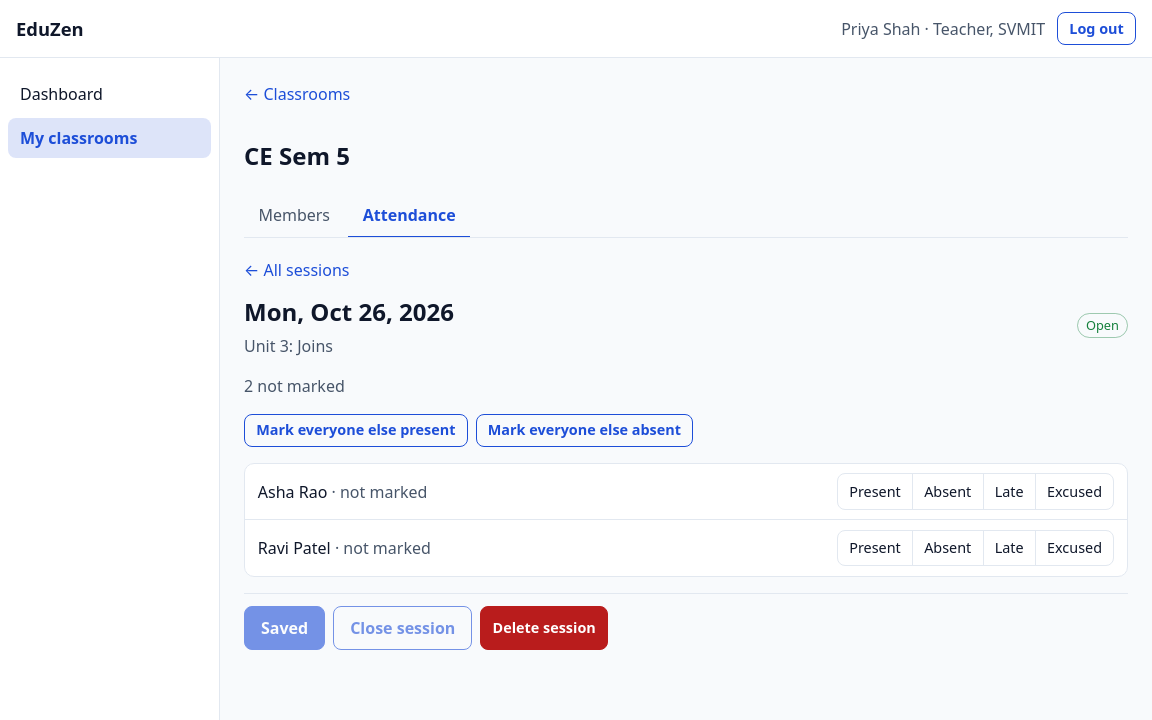
Test: marking screen › marks, uses the shortcut, and saves only the changes
Expected: the text "2 not marked" is shown, [244,375,345,397]
Click the radio button labelled "Present" in the row of "Ravi Patel": (875, 548) [849,538,901,557]
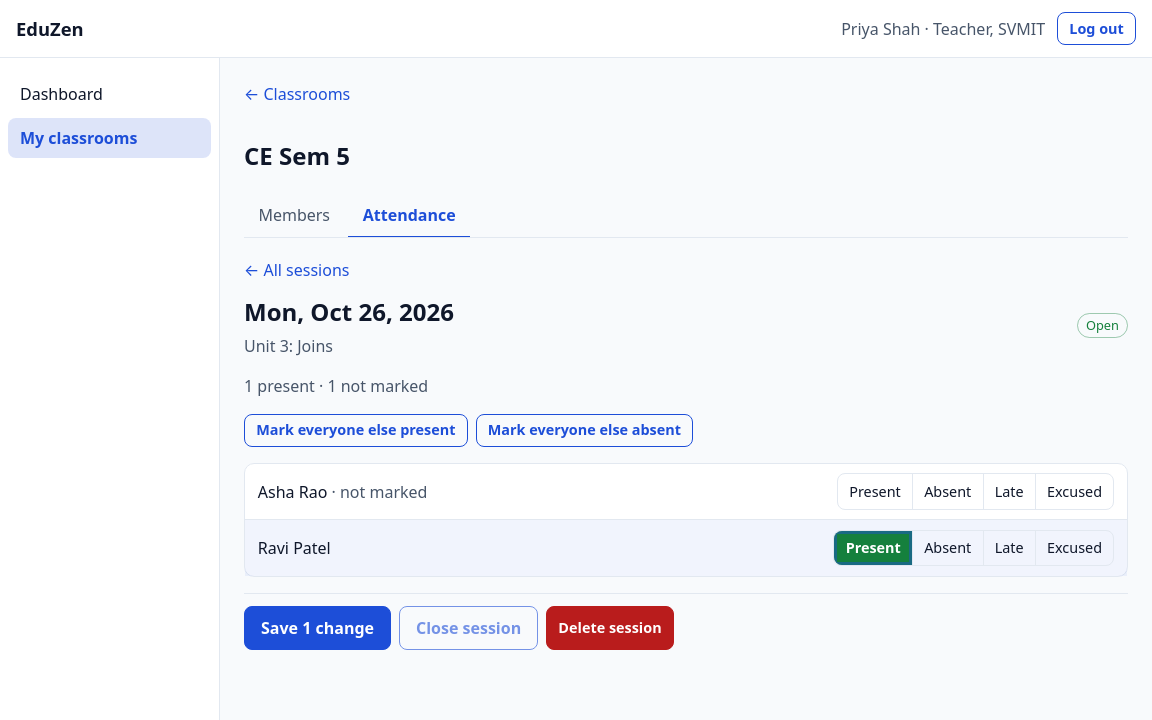
Result: the button "Save 1 change" is enabled at [244,606,391,650]
Click the button "Mark everyone else absent": (584, 430) [476,414,693,447]
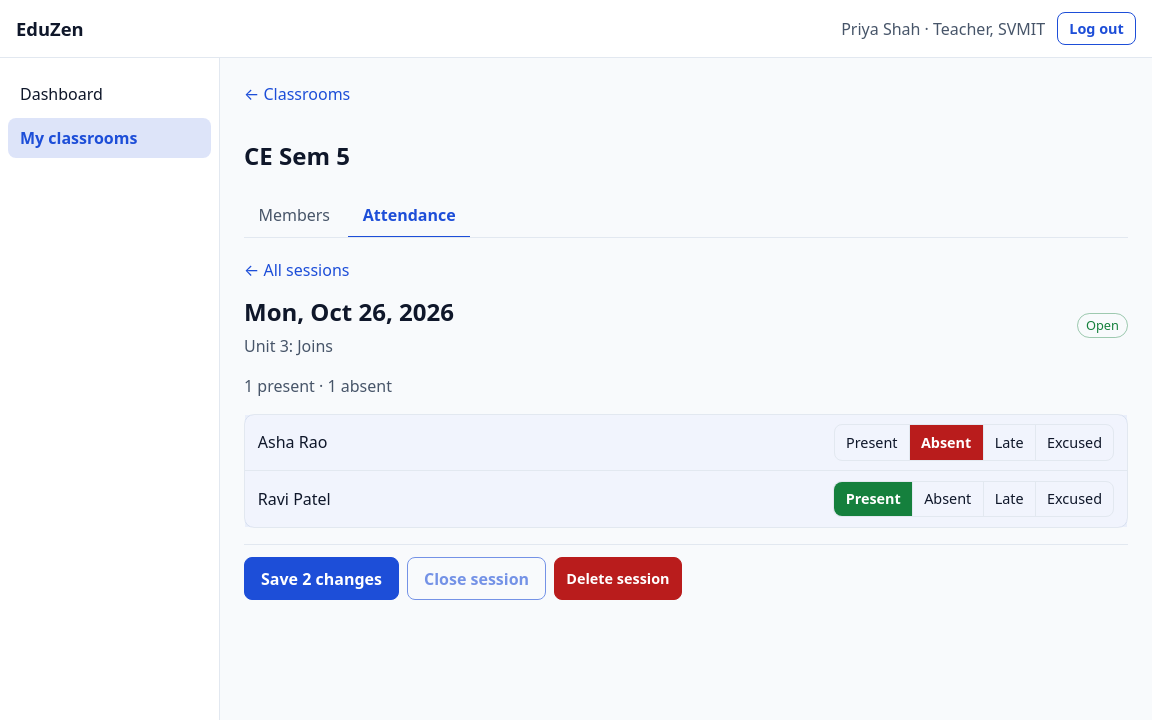
Expected: the button "Close session" is disabled, [407,557,546,600]
Result: the radio button labelled "Absent" in the row of "Asha Rao" is checked at [909,425,982,460]
Result: the text "1 present · 1 absent" is shown at [244,375,392,397]
Click the button "Save 2 changes": (322, 579) [244,557,399,600]
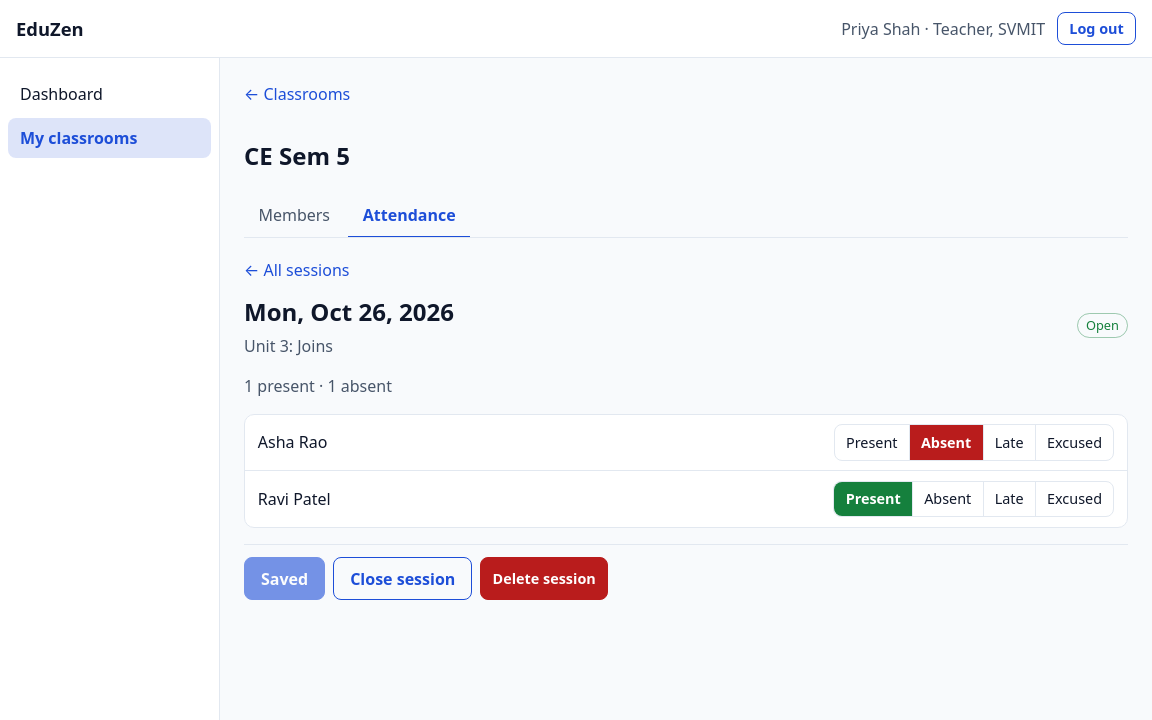
Result: the button "Saved" is disabled at [244,557,325,600]
Result: the button "Close session" is enabled at [333,557,472,600]
